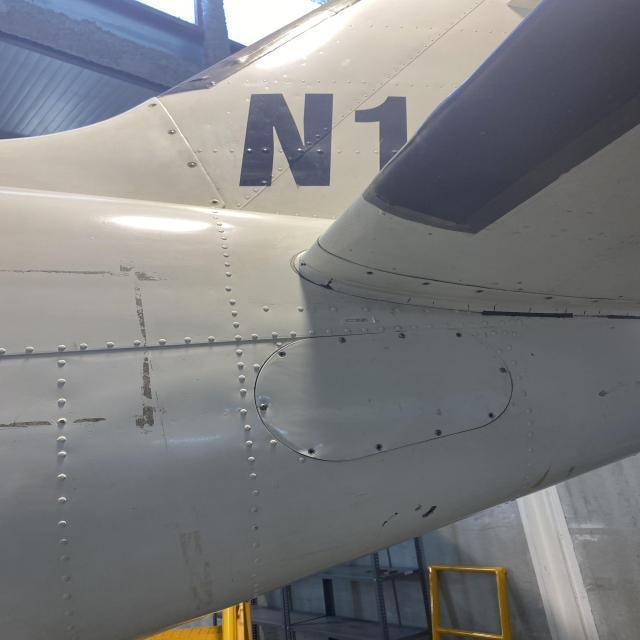Fastener Damage: (305, 448, 319, 458), (373, 443, 386, 453), (484, 411, 496, 419), (210, 199, 222, 207), (476, 289, 487, 296), (276, 352, 288, 358), (456, 332, 464, 338), (366, 271, 375, 276), (422, 282, 432, 286)
